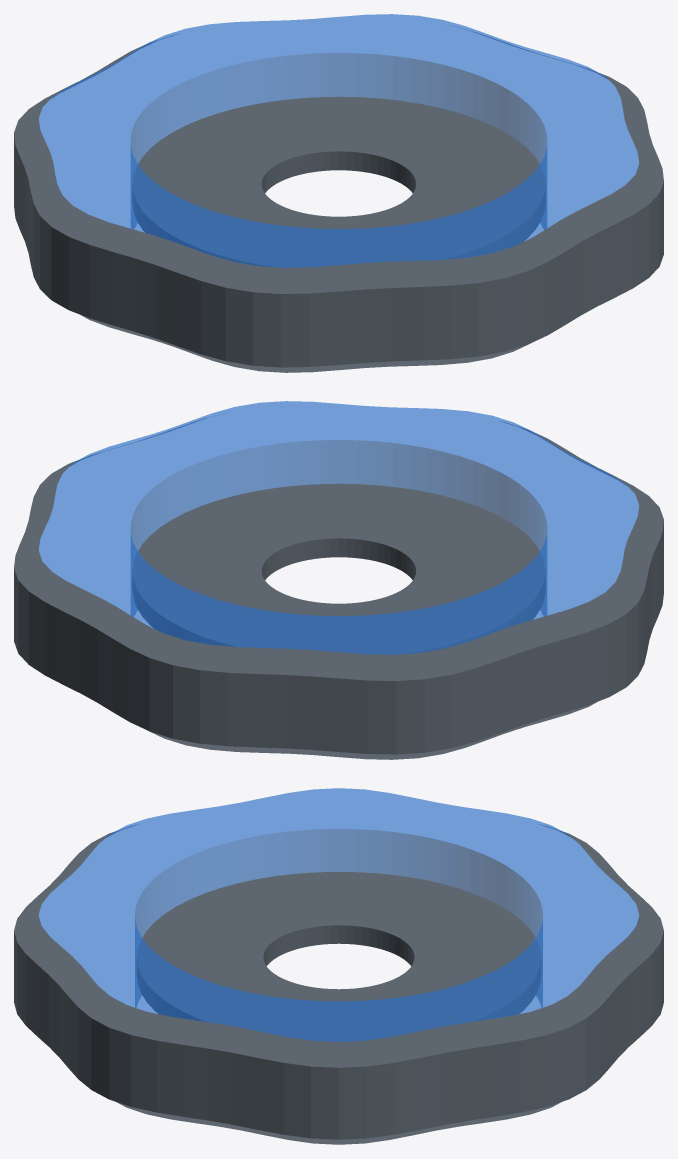
Rendered from gear_high.glb.
3 renders of one model, top to bottom at view 1: azimuth 30°, elevation 25°; view 2: azimuth 150°, elevation 25°; view 3: azimuth 270°, elevation 25°, orthographic. The views are drawn at different scales.
Visible parts, largest first — view 1: GEO_gear_high_BODY, GEO_gear_high_NSS_V1_COLLAR; view 2: GEO_gear_high_BODY, GEO_gear_high_NSS_V1_COLLAR; view 3: GEO_gear_high_BODY, GEO_gear_high_NSS_V1_COLLAR.
Part boxes in pixels (<box>): GEO_gear_high_BODY: <box>14,14,663,372</box>; GEO_gear_high_NSS_V1_COLLAR: <box>132,96,545,267</box>; GEO_gear_high_BODY: <box>14,401,663,759</box>; GEO_gear_high_NSS_V1_COLLAR: <box>132,483,545,654</box>; GEO_gear_high_BODY: <box>14,788,663,1144</box>; GEO_gear_high_NSS_V1_COLLAR: <box>137,871,540,1041</box>.
Bounding box in the file's own units: 0.0344 × 0.006 × 0.0344.
